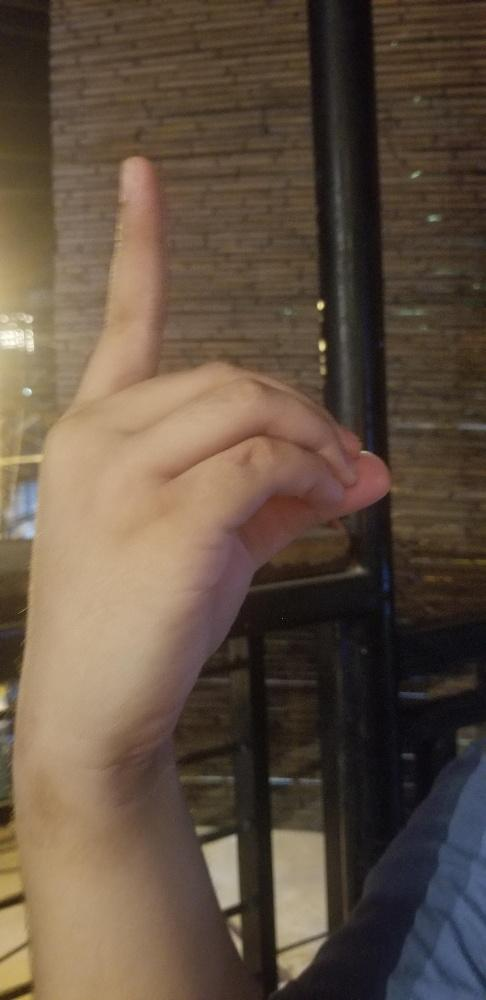d: (32, 153, 393, 687)
